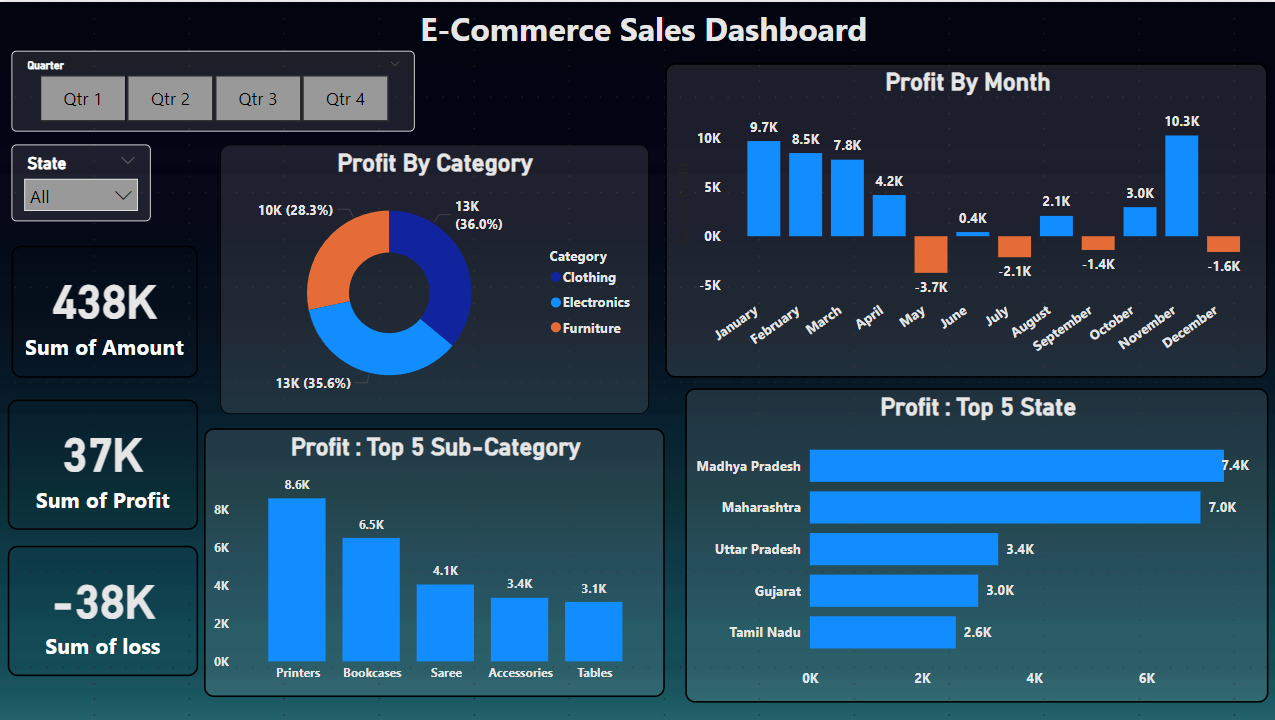

The dashboard page shown, as its layout file describes it:
{"tool":"powerbi","page":{"name":"Page 1","canvas":[1280,720],"ordinal":0},"visuals":[{"type":"columnChart","title":" Profit By Month","fields":{"Y":["Sum(Details.Profit)"],"Category":["Orders.Order Date.Variation.Date Hierarchy.Month"]},"box":[666.4,61.2,602.4,314.4],"z":0},{"type":"textbox","box":[416,0,473,61.2],"z":1000},{"type":"columnChart","title":"Profit : Top 5 Sub-Category","fields":{"Category":["Details.Sub-Category"],"Y":["Sum(Details.Profit)"]},"box":[204.5,425.7,460.5,268.5],"z":2000},{"type":"barChart","title":"Profit : Top 5 State","fields":{"Category":["Orders.State"],"Y":["Sum(Details.Profit)"]},"box":[685.9,386.8,583,314.4],"z":3000},{"type":"donutChart","title":" Profit By Category","fields":{"Category":["Details.Category"],"Y":["Sum(Details.Profit)"]},"box":[221.2,141.9,428.5,269.9],"z":4000},{"type":"card","fields":{"Values":["Sum(Details.Profit)"]},"box":[8.3,397.9,190.6,130.8],"z":5000},{"type":"card","fields":{"Values":["Sum(Details.Amount)"]},"box":[12.5,243.5,186.4,132.2],"z":6000},{"type":"card","fields":{"Values":["Sum(Details.loss)"]},"box":[8.3,544,190.6,130.8],"z":7000},{"type":"slicer","fields":{"Values":["Orders.Order Date.Variation.Date Hierarchy.Quarter"]},"box":[12.5,48.7,403.5,80.7],"z":8000},{"type":"slicer","fields":{"Values":["Orders.State"]},"box":[12.5,141.9,139.1,76.5],"z":9000}]}

Visuals, with their boxes in screenshot pixels (x1, y1, x2, y2), scaled from the page's 1280x720 canvas onto the 1275x720 screenshot:
" Profit By Month" columnChart: <bbox>664, 61, 1264, 376</bbox>
textbox: <bbox>414, 0, 886, 61</bbox>
"Profit : Top 5 Sub-Category" columnChart: <bbox>204, 426, 662, 694</bbox>
"Profit : Top 5 State" barChart: <bbox>683, 387, 1264, 701</bbox>
" Profit By Category" donutChart: <bbox>220, 142, 647, 412</bbox>
card - Sum(Details.Profit): <bbox>8, 398, 198, 529</bbox>
card - Sum(Details.Amount): <bbox>12, 244, 198, 376</bbox>
card - Sum(Details.loss): <bbox>8, 544, 198, 675</bbox>
slicer - Orders.Order Date.Variation.Date Hierarchy.Quarter: <bbox>12, 49, 414, 129</bbox>
slicer - Orders.State: <bbox>12, 142, 151, 218</bbox>
